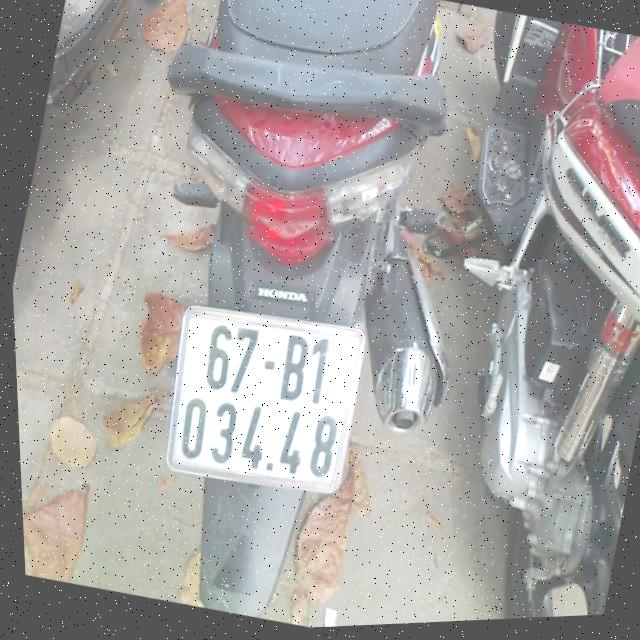motorcycle: (50, 0, 541, 638), (340, 2, 640, 625)
plate: (143, 280, 385, 516)
